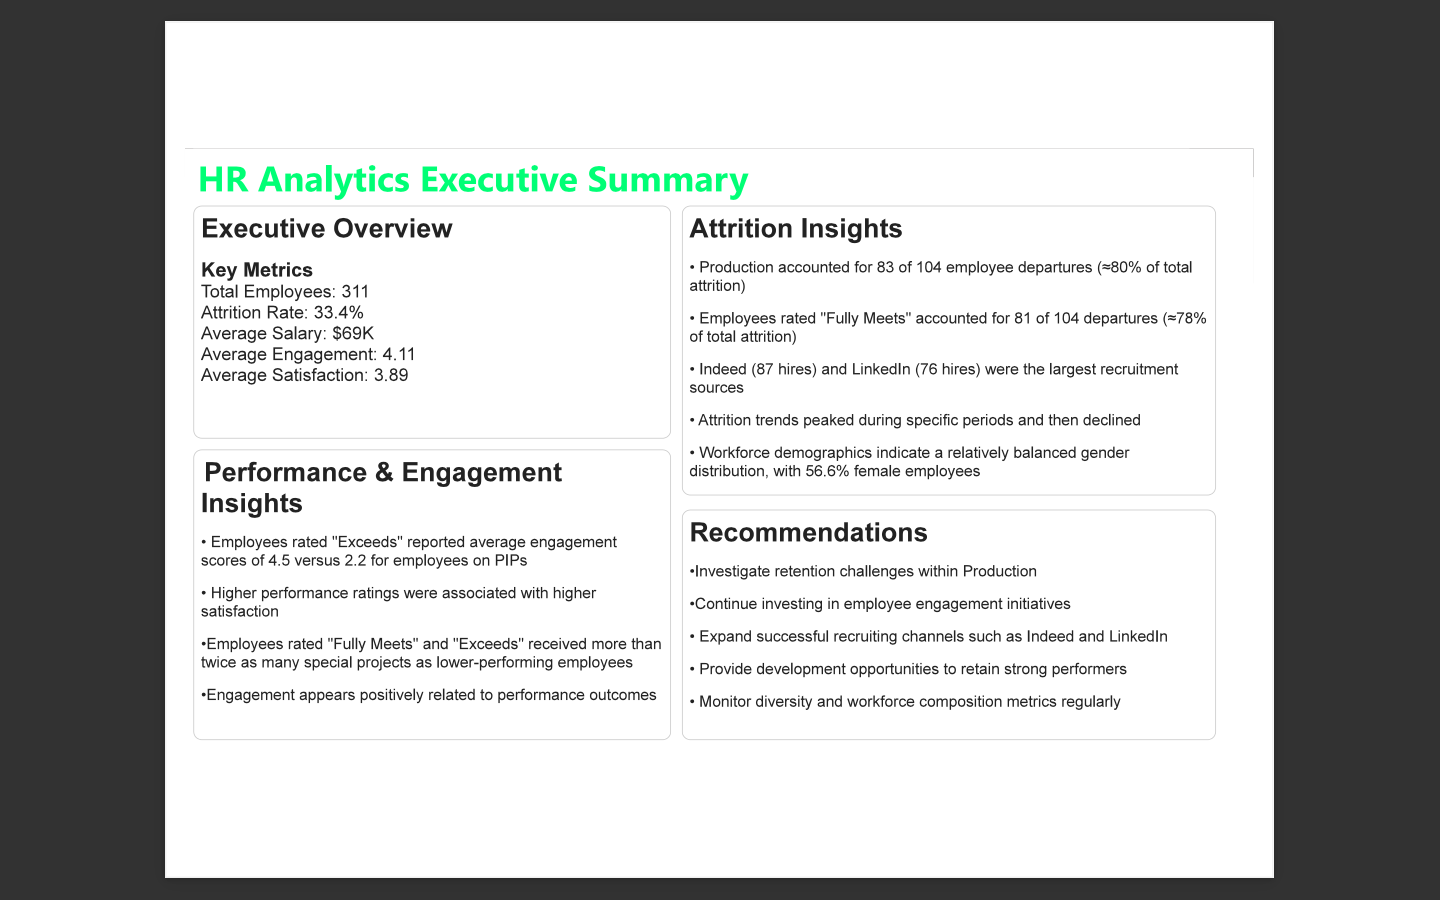

This screenshot's page, from the dashboard's own definition file:
{"tool":"powerbi","page":{"name":"Key Insights & Recommendations","canvas":[1280,720],"ordinal":4},"visuals":[{"type":"textbox","box":[10,0,1193.3,80],"z":0},{"type":"textbox","box":[10,68.3,571.7,278.3],"z":1000},{"type":"textbox","box":[595,68.3,640,346.7],"z":2000},{"type":"textbox","box":[10,360,571.7,348.3],"z":3000},{"type":"textbox","box":[595,431.7,640,276.7],"z":4000}]}

Visuals, with their boxes on the page's 1280x720 design canvas (x1, y1, x2, y2). These are canvas units, not pixel positions in the 1440x900 screenshot, which may show the page scaled, cropped or inside an application window:
textbox: rect(10, 0, 1203, 80)
textbox: rect(10, 68, 582, 347)
textbox: rect(595, 68, 1235, 415)
textbox: rect(10, 360, 582, 708)
textbox: rect(595, 432, 1235, 708)
